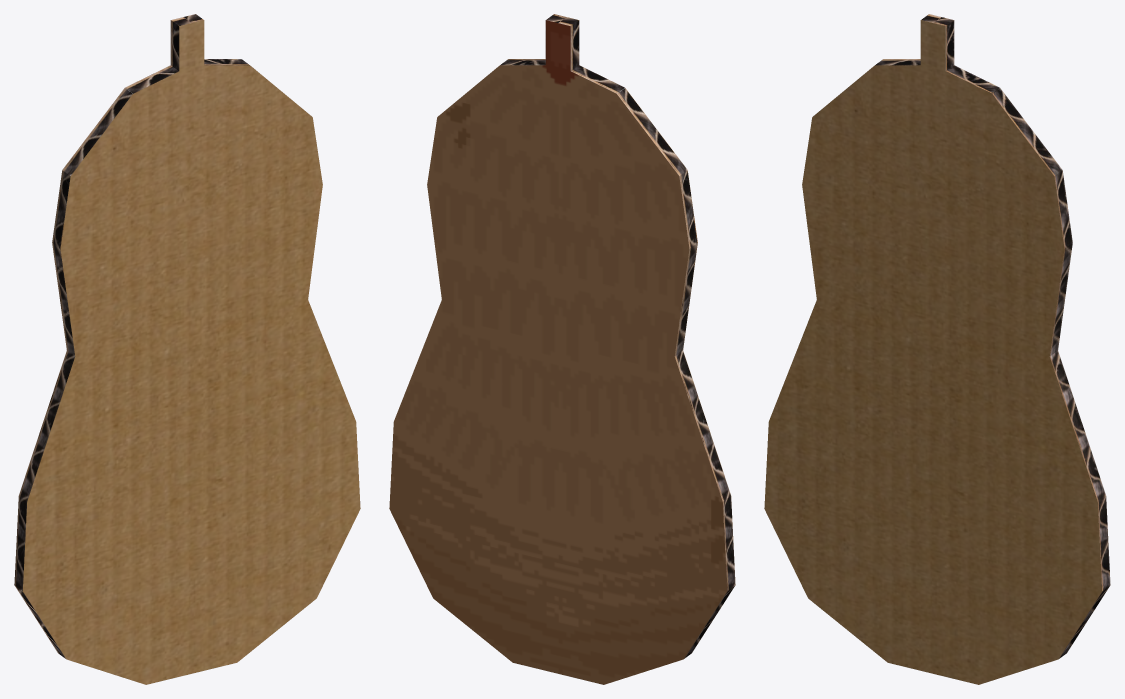
File: CALABAZA_A.glb
3 renders of one model, left to right at view 1: azimuth 30°, elevation 25°; view 2: azimuth 150°, elevation 25°; view 3: azimuth 330°, elevation 25°, orthographic.
Visible parts, largest first — view 1: CALABAZA; view 2: CALABAZA; view 3: CALABAZA.
Part boxes in pixels (x1=…): CALABAZA: x1=14, y1=14, x2=360, y2=684; CALABAZA: x1=389, y1=14, x2=735, y2=684; CALABAZA: x1=764, y1=14, x2=1110, y2=684.
Size of the model in its own units: 2.09 by 3.85 by 0.09.
1 material, 1 textured.
